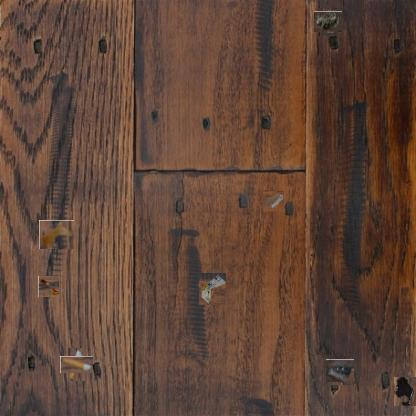dirty: (197, 274, 227, 304), (328, 358, 353, 384), (64, 352, 89, 377), (316, 10, 341, 34), (38, 276, 60, 297), (263, 190, 283, 212)
liquid: (39, 220, 74, 249), (394, 378, 416, 408)
